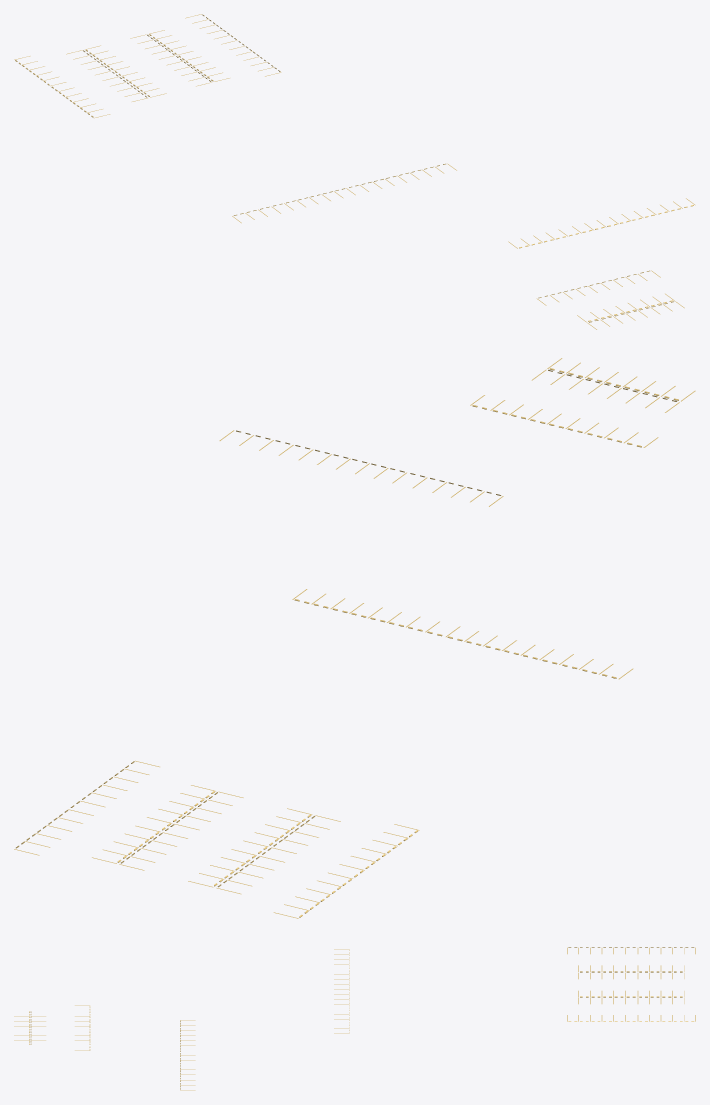
File: PARKIR.fbx
3 renders of one model, top to bottom at view 1: azimuth 30°, elevation 25°; view 2: azimuth 150°, elevation 25°; view 3: azimuth 270°, elevation 25°, orthographic. The views are drawn at different scales.
Parts seen in each view (by area): view 1: Cube.343; view 2: Cube.343, Cube.310; view 3: Cube.343, Cube.310, Cube.309.
Boxes of the visible parts, bbox=[...] form: Cube.343: bbox=[14, 14, 281, 118]; Cube.343: bbox=[14, 760, 419, 918]; Cube.310: bbox=[292, 589, 633, 679]; Cube.343: bbox=[567, 947, 695, 1021]; Cube.310: bbox=[334, 949, 349, 1033]; Cube.309: bbox=[180, 1020, 195, 1090].
Size of the model in its own units: 256 by 0.4772 by 516.
